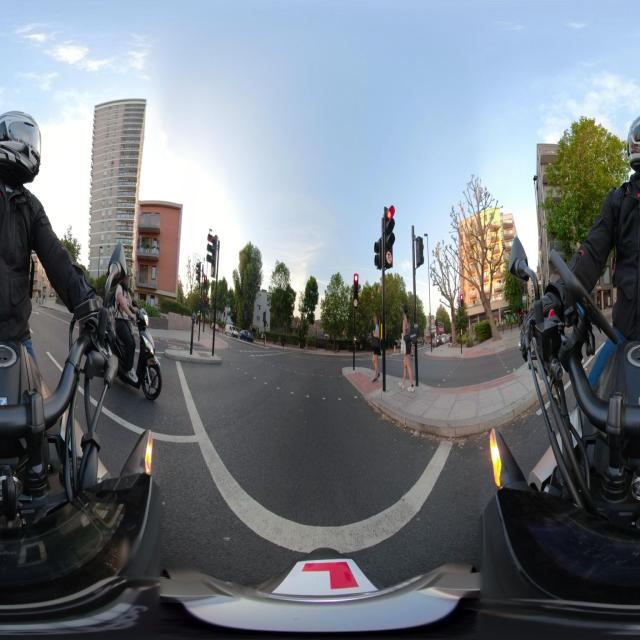bike: (528, 250, 640, 538), (98, 301, 162, 401)
car: (239, 328, 253, 343)
